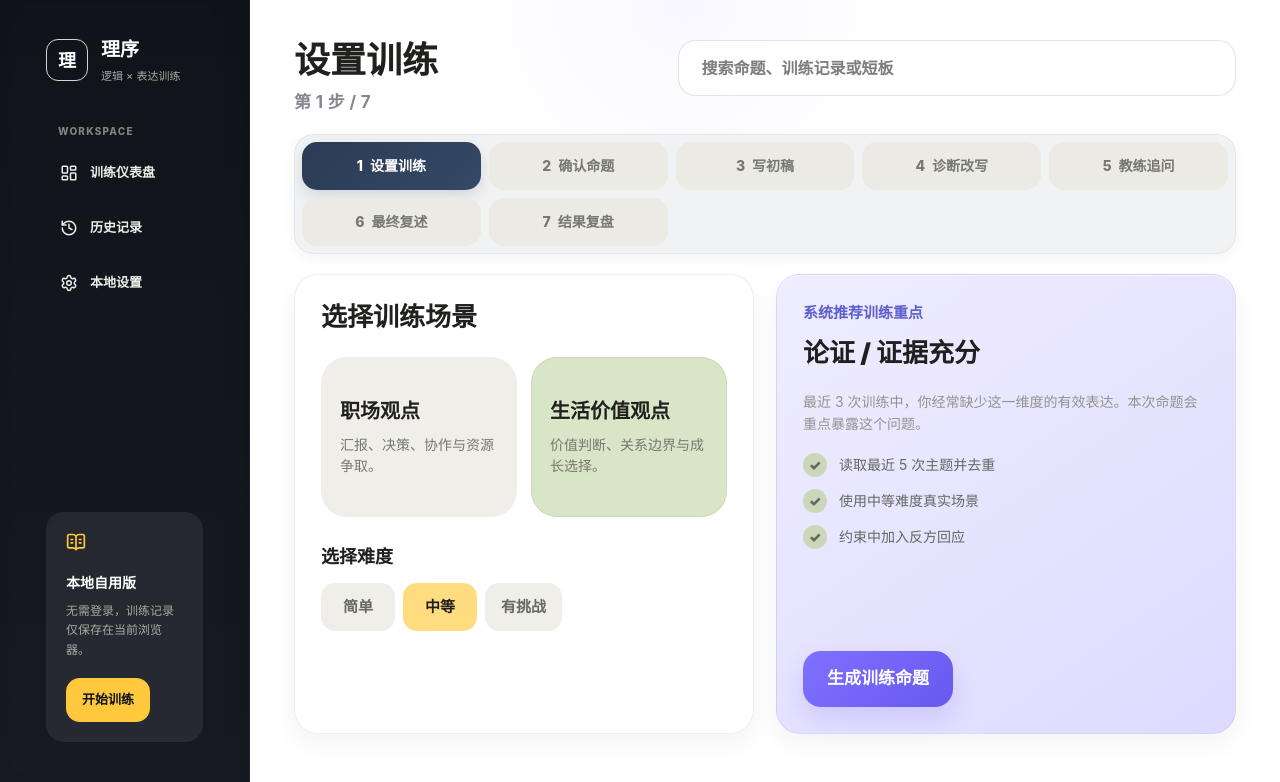
Test: TrainingWorkspace › renders the approved topic confirmation card structure
The width and height of the screenshot is (1280, 782).
Check: the heading "设置训练" is shown, box x1=294 y1=38 x2=438 y2=82
What coordinates should you click on to do the following:
click the button "生成训练命题"
I would click on:
 (878, 679)
Its box is x1=803 y1=651 x2=953 y2=707.
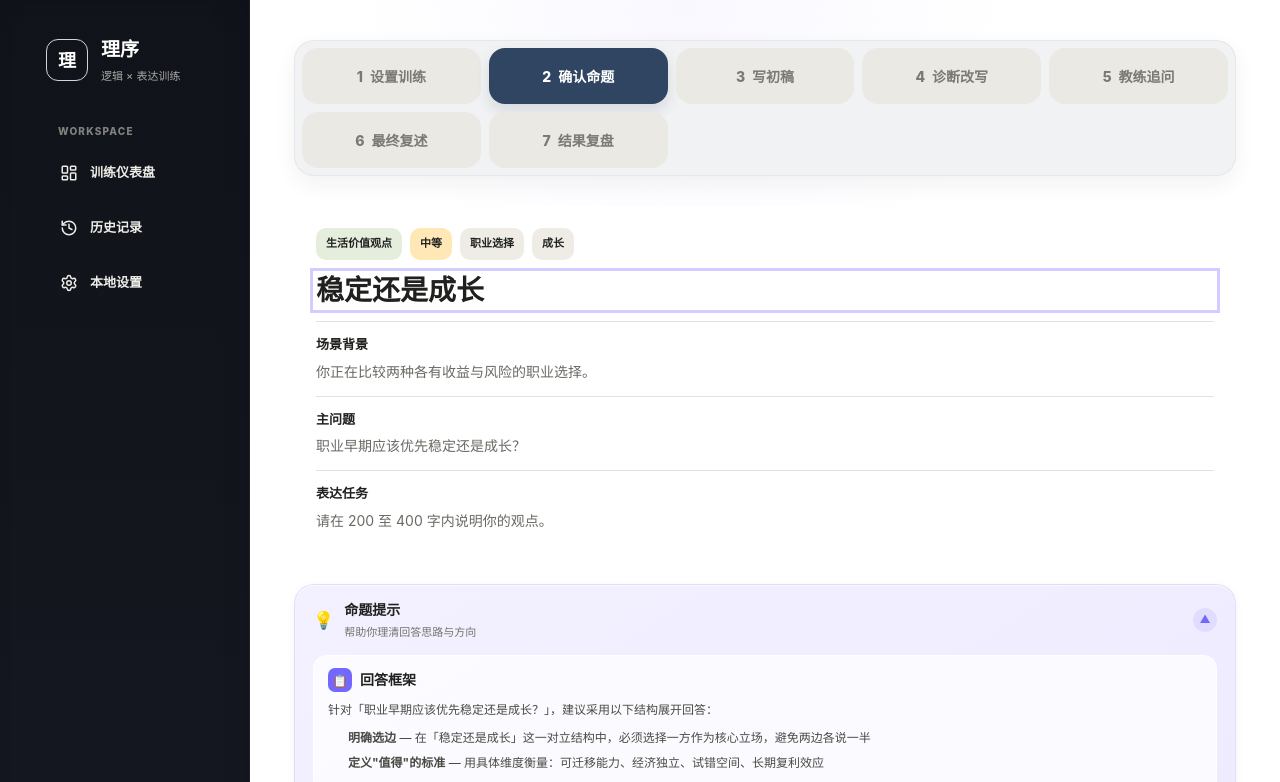
Check: the element "稳定还是成长" is shown, box x1=294 y1=206 x2=1236 y2=566
Check: the element "稳定还是成长" shows "生活价值观点", box x1=326 y1=236 x2=392 y2=250
Check: the element "稳定还是成长" shows "中等", box x1=420 y1=236 x2=442 y2=250
